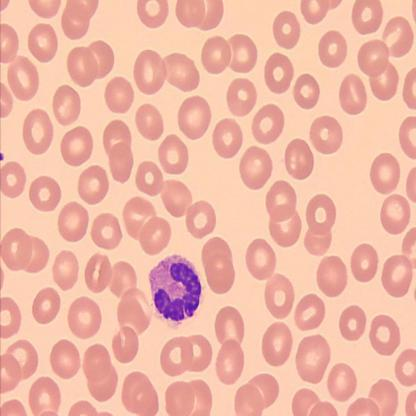Band Neutrophil: (147, 250, 204, 328)
